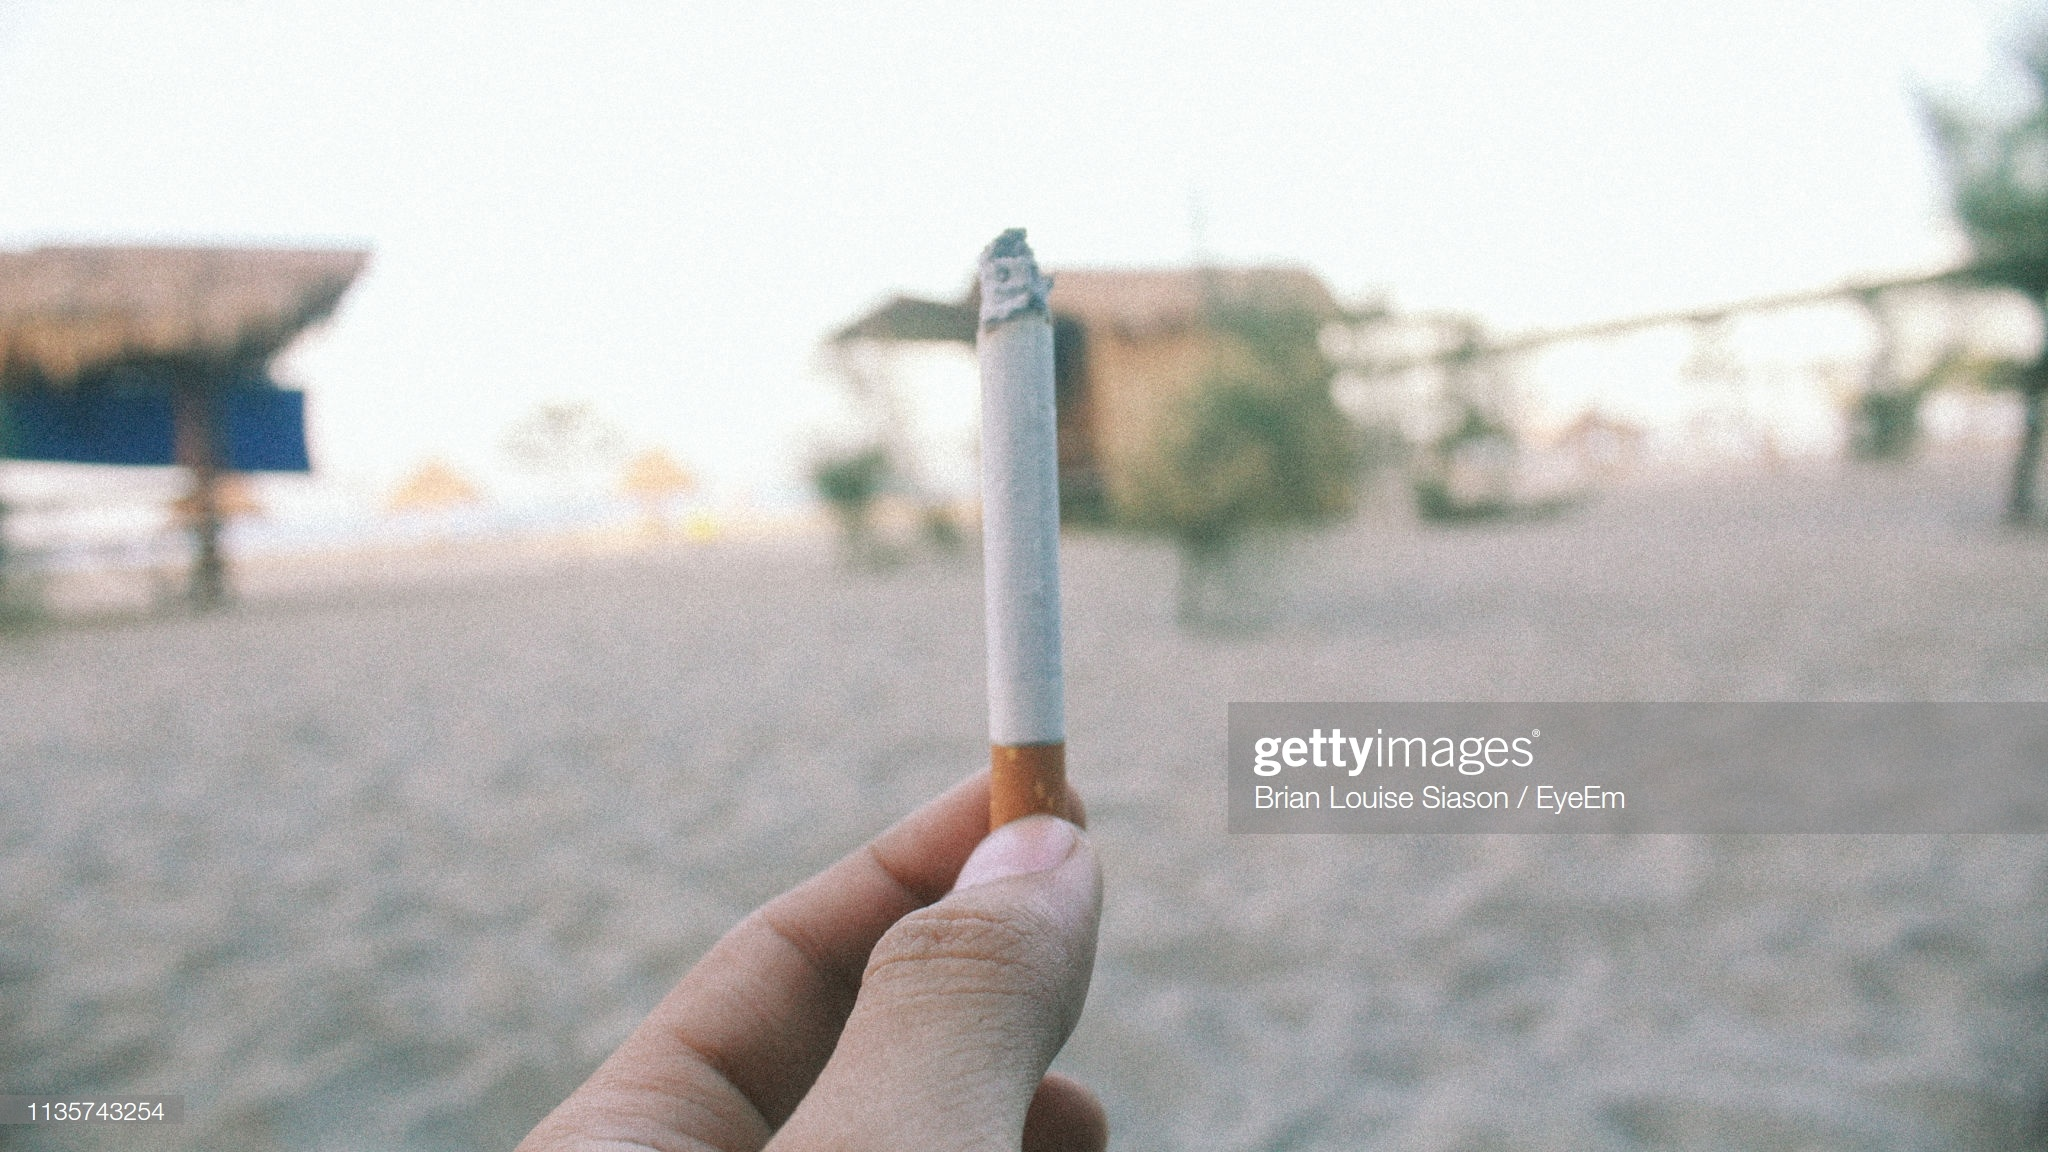sigaretta: (969, 241, 1077, 840)
